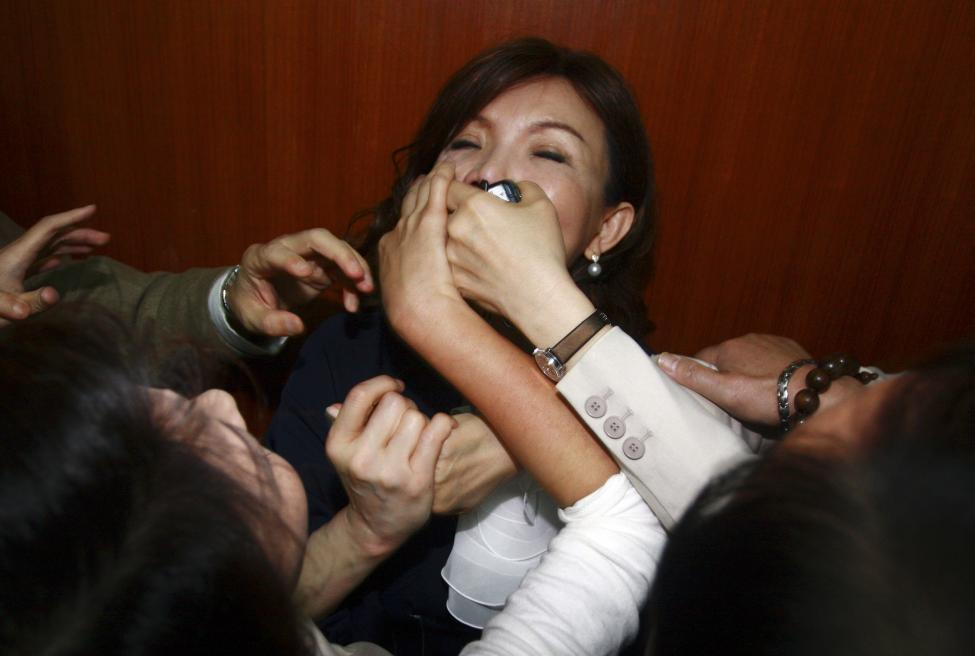face: (418, 76, 590, 292)
